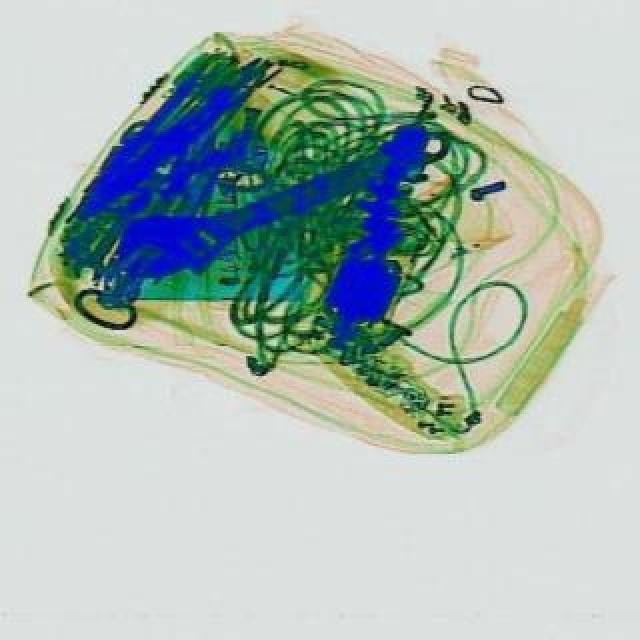scissors: (102, 104, 462, 304)
wrench: (60, 64, 238, 236)
